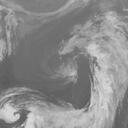cyclone: (53, 30, 115, 89)
